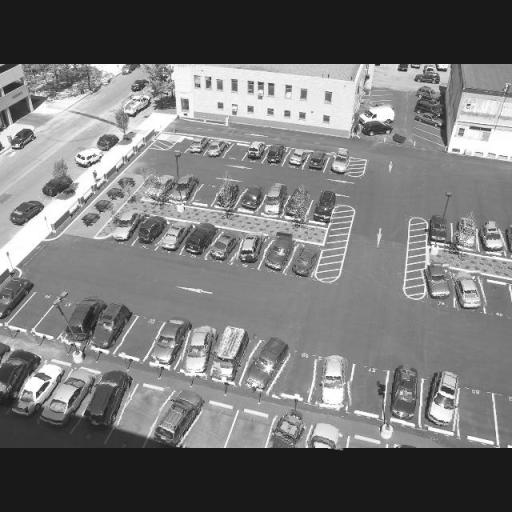busy: (245, 334, 291, 398), (156, 388, 204, 447), (85, 372, 133, 430), (45, 369, 91, 428), (15, 362, 60, 422), (422, 370, 463, 430), (386, 364, 426, 425), (178, 326, 220, 380), (208, 328, 248, 384), (312, 355, 352, 410), (58, 296, 104, 342), (145, 320, 189, 368), (85, 304, 129, 348), (0, 350, 32, 408), (270, 409, 308, 447), (453, 270, 486, 312), (422, 265, 456, 303), (181, 223, 216, 257), (262, 236, 294, 273), (0, 279, 30, 317), (306, 421, 346, 449), (234, 232, 266, 264), (210, 230, 240, 262), (112, 212, 144, 242), (478, 222, 506, 256), (137, 215, 167, 246), (168, 175, 200, 204), (292, 243, 319, 277), (261, 186, 289, 218), (452, 218, 480, 250), (10, 201, 43, 226), (162, 222, 188, 252), (146, 176, 176, 202), (71, 147, 102, 170), (239, 187, 265, 213), (214, 186, 242, 210), (285, 190, 309, 218), (41, 178, 71, 200), (428, 217, 452, 244), (313, 192, 335, 221), (10, 128, 36, 149), (265, 146, 287, 166), (330, 153, 350, 175), (286, 149, 308, 168), (244, 142, 266, 160), (207, 140, 228, 158), (97, 133, 119, 150), (126, 100, 149, 116), (307, 154, 328, 170), (188, 138, 209, 154), (390, 130, 408, 144), (88, 81, 104, 95), (120, 65, 139, 76), (131, 80, 147, 92), (100, 73, 116, 84)
free: (348, 376, 384, 410), (459, 399, 493, 433), (282, 362, 313, 392), (124, 399, 156, 428), (192, 420, 226, 447), (232, 429, 266, 448), (486, 288, 511, 312), (128, 328, 152, 347), (200, 188, 219, 204), (26, 302, 44, 318), (36, 124, 50, 137), (232, 146, 246, 158)
